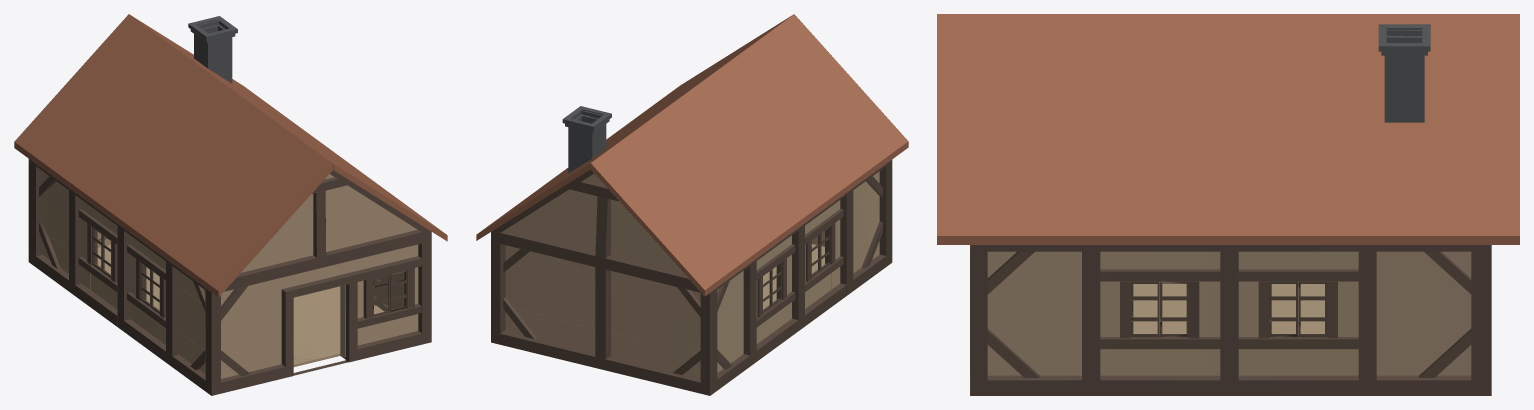
The model's file is Cottage.glb.
The picture shows the model from 3 angles, left to right: view 1: azimuth 30°, elevation 25°; view 2: azimuth 150°, elevation 25°; view 3: azimuth 270°, elevation 25°; orthographic projection. The views are drawn at different scales.
Parts seen in each view (by area): view 1: Cottage.002; view 2: Cottage.002; view 3: Cottage.002.
Part boxes in pixels (left/top/right/bottom): Cottage.002: left=14, top=14, right=447, bottom=395; Cottage.002: left=476, top=14, right=908, bottom=395; Cottage.002: left=937, top=14, right=1519, bottom=395.
Size of the model in its own units: 13.36 by 12.3 by 20.63.
Materials: 1 (1 with a texture image).
